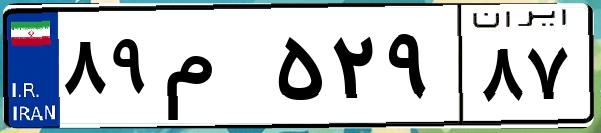2: (330, 28, 385, 110)
5: (270, 28, 330, 110)
7: (525, 38, 570, 115)
8: (57, 26, 110, 100), (475, 38, 525, 113)
9: (385, 28, 445, 110), (110, 28, 158, 98)
م: (158, 20, 270, 120)
